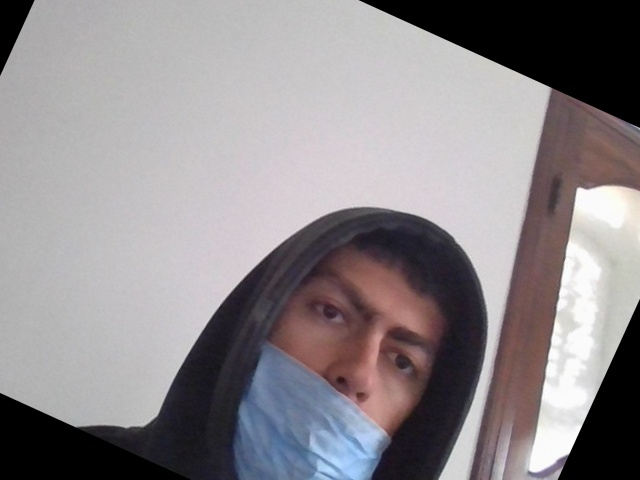mask_weared_incorrect: (233, 225, 450, 480)
